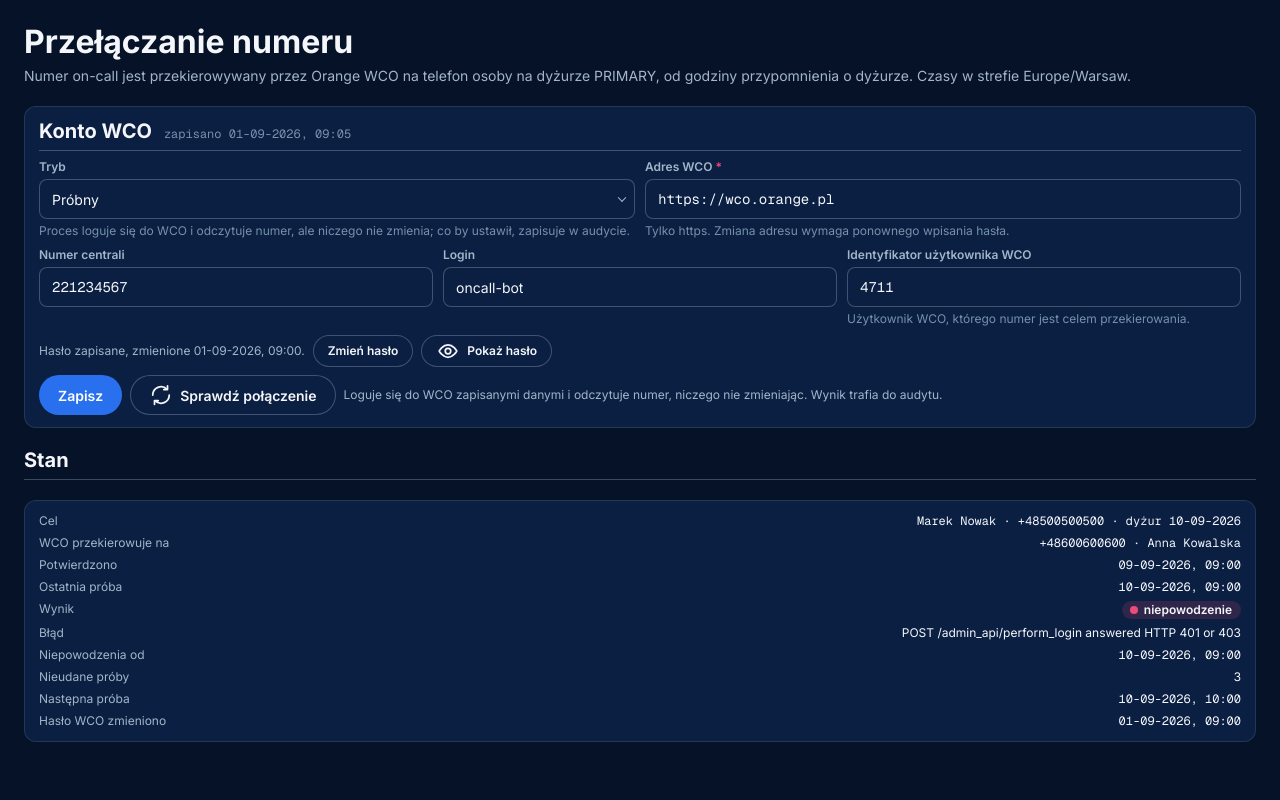
Test: ForwardingPanel › reports a connection check: {"outcome":"ok","number":null,"detail":null}
Click the button "Sprawdź połączenie" at (233, 395), box [130,375,336,415]
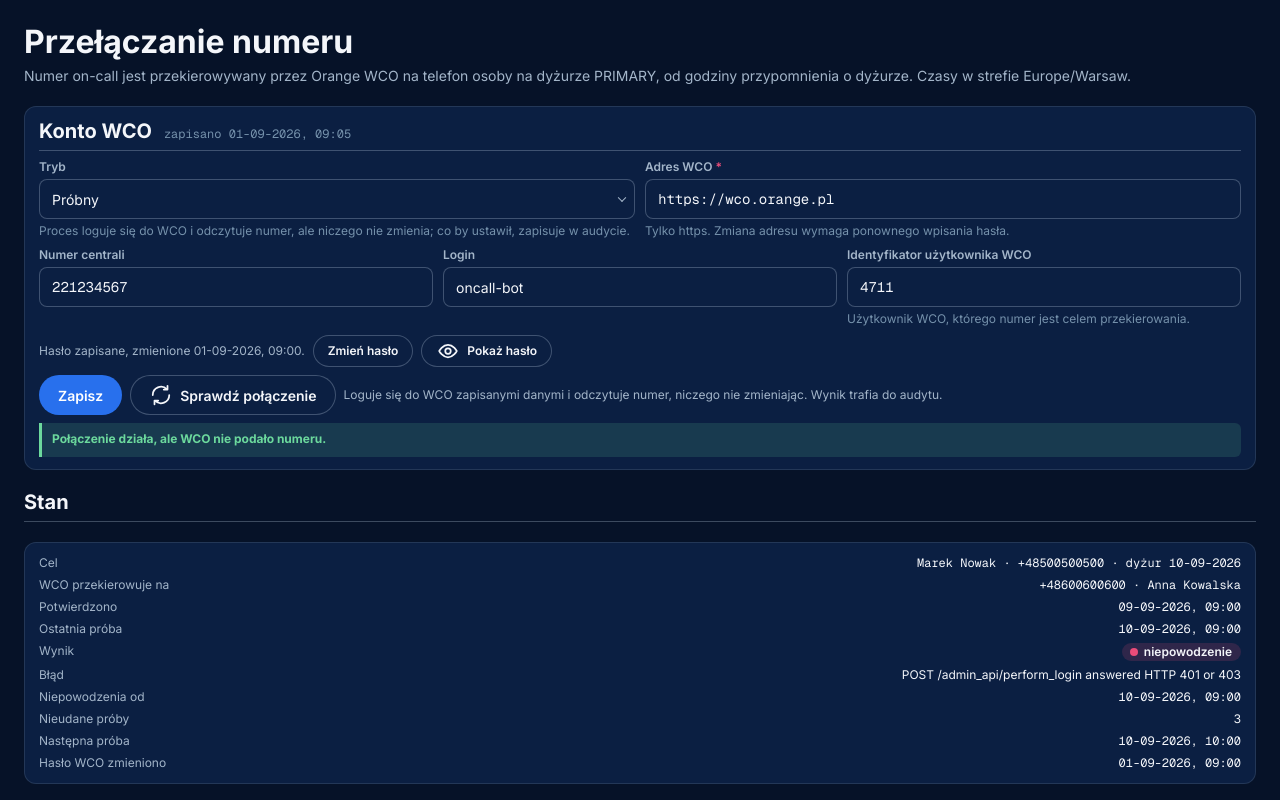
Now the message reads "Połączenie działa, ale WCO nie podało numeru.", box [52,431,326,446]
